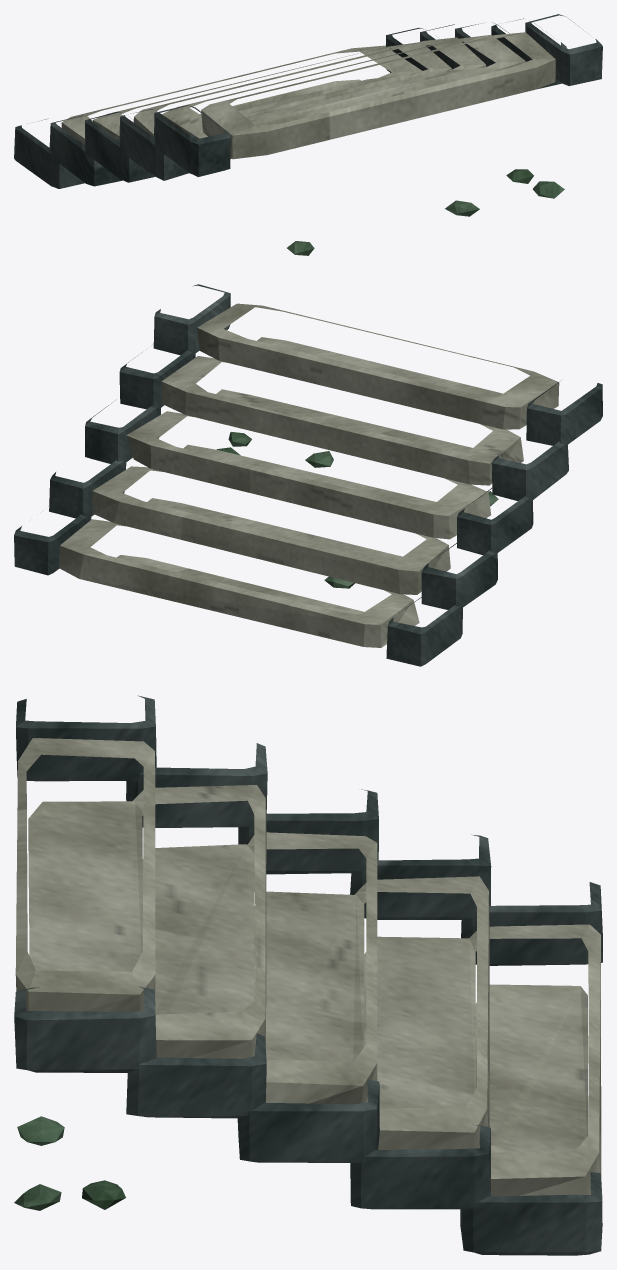
File: 0367_stairs_17.glb
3 views of the same model, one above another, from view 1: azimuth 30°, elevation 25°; view 2: azimuth 150°, elevation 25°; view 3: azimuth 270°, elevation 25° (orthographic). The views are drawn at different scales.
Parts seen in each view (by area): view 1: stone_light, stone_dark, moss; view 2: stone_light, stone_dark, moss; view 3: stone_light, stone_dark, moss.
Part boxes in pixels (x1=…): stone_light: x1=61, y1=32, x2=555, y2=159; stone_dark: x1=14, y1=14, x2=602, y2=188; moss: x1=287, y1=169, x2=564, y2=255; stone_light: x1=59, y1=303, x2=559, y2=647; stone_dark: x1=14, y1=284, x2=602, y2=666; moss: x1=217, y1=432, x2=498, y2=588; stone_light: x1=15, y1=738, x2=601, y2=1196; stone_dark: x1=14, y1=695, x2=602, y2=1255; moss: x1=14, y1=1116, x2=125, y2=1210.
Bounding box in the file's own units: 2.99 × 1.07 × 2.32.
3 materials, 3 textured.
